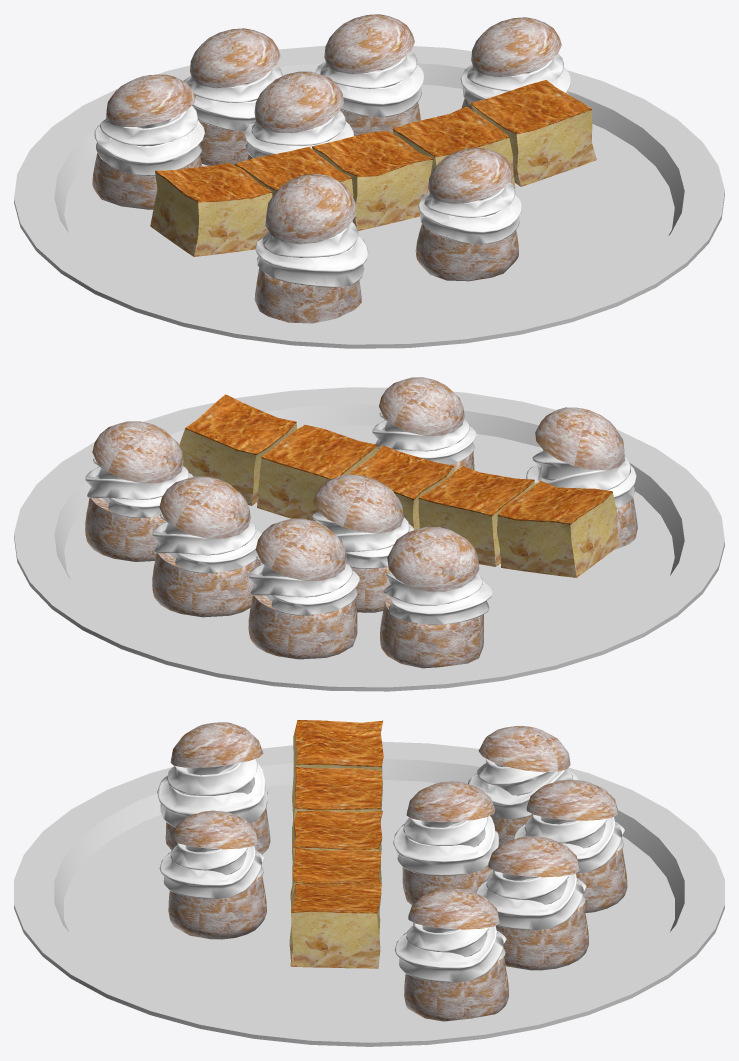
The model's file is cavolino.fbx.
The picture shows the model from 3 angles, top to bottom: view 1: azimuth 30°, elevation 25°; view 2: azimuth 150°, elevation 25°; view 3: azimuth 270°, elevation 25°; orthographic projection.
Parts seen in each view (by area): view 1: Arch_44__026_41, Arch_44__026_42, Cream_1, Sphere_6, Cream_1_6, Sphere_5, Cream_1_7, Sphere_2, Sphere_3, Sphere_4, Cream_1_3, Loft_7 (+9 smaller); view 2: Arch_44__026_41, Arch_44__026_42, Loft_2, Sphere, Loft_3, Loft, Sphere_3, Sphere_4, Sphere_2, Sphere_6, Sphere_5, Sphere_7 (+10 smaller); view 3: Arch_44__026_41, Arch_44__026_42, Cream_1_6, Cream_1_4, Cream_1_5, Cream_1_3, Cream_1_7, Loft_4, Loft_7, Loft_3, Cream_1_2, Sphere_6 (+11 smaller).
Boxes of the visible parts, x1,y1,x2,y2 form: Arch_44__026_41: (14, 45, 724, 348); Arch_44__026_42: (150, 80, 596, 256); Cream_1: (94, 106, 204, 175); Sphere_6: (265, 173, 356, 244); Cream_1_6: (255, 222, 368, 287); Sphere_5: (254, 71, 343, 132); Cream_1_7: (418, 182, 521, 244); Sphere_2: (190, 28, 280, 88); Sphere_3: (324, 14, 414, 73); Sphere_4: (471, 17, 561, 76); Cream_1_3: (315, 50, 424, 117); Loft_7: (415, 224, 518, 281); Arch_44__026_41: (14, 387, 724, 691); Arch_44__026_42: (179, 394, 620, 577); Loft_2: (248, 590, 357, 659); Sphere: (387, 527, 479, 591); Loft_3: (152, 553, 260, 617); Loft: (380, 595, 483, 668); Sphere_3: (159, 476, 250, 538); Sphere_4: (92, 421, 183, 483); Sphere_2: (255, 518, 346, 580); Sphere_6: (535, 407, 624, 470); Sphere_5: (313, 474, 403, 533); Sphere_7: (379, 377, 464, 435); Arch_44__026_41: (14, 741, 724, 1046); Arch_44__026_42: (289, 720, 383, 968); Cream_1_6: (157, 758, 267, 827); Cream_1_4: (394, 922, 506, 982); Cream_1_5: (393, 815, 498, 875); Cream_1_3: (476, 870, 586, 930); Cream_1_7: (159, 842, 264, 898); Loft_4: (404, 956, 508, 1021); Loft_7: (168, 874, 266, 939); Loft_3: (495, 904, 588, 970); Cream_1_2: (513, 814, 624, 873); Sphere_6: (170, 722, 263, 767).
Bounding box in the file's own units: 20.31 × 4.39 × 20.24.
